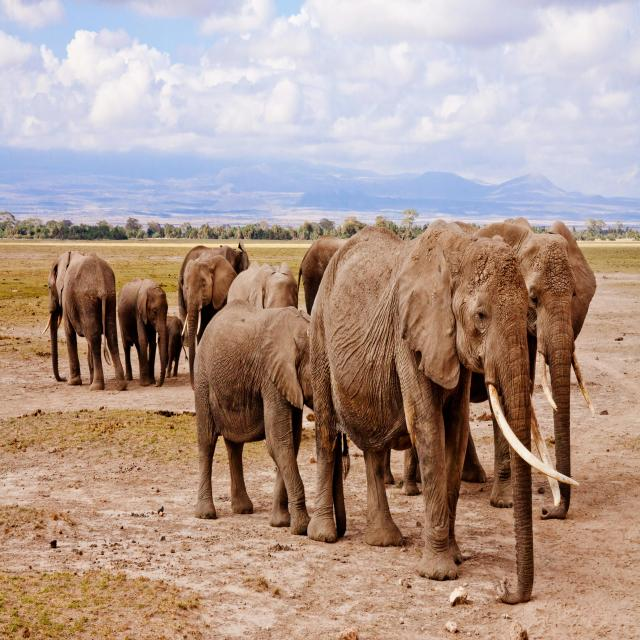Elephant: (309, 215, 579, 605), (378, 218, 596, 521), (193, 299, 348, 539), (226, 260, 299, 443), (42, 250, 129, 394), (178, 240, 256, 346), (181, 251, 239, 391), (117, 276, 168, 386), (156, 315, 188, 377)
